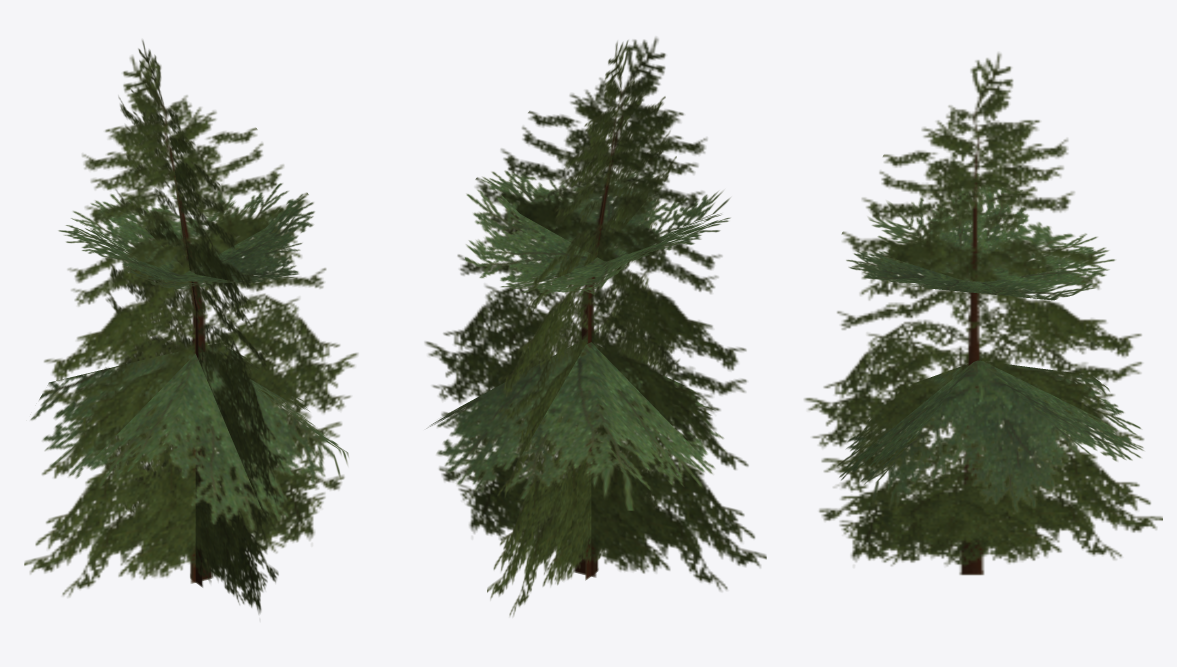
File: forest_bush_02.glb
3 views of the same model, side by side, from view 1: azimuth 30°, elevation 25°; view 2: azimuth 150°, elevation 25°; view 3: azimuth 270°, elevation 25° (orthographic). The views are drawn at different scales.
Visible parts, largest first — view 1: Background_Tree_Atlas.009_Background_Tree_Atlas_0; view 2: Background_Tree_Atlas.009_Background_Tree_Atlas_0; view 3: Background_Tree_Atlas.009_Background_Tree_Atlas_0.
Boxes of the visible parts, x1,y1,x2,y2 form: Background_Tree_Atlas.009_Background_Tree_Atlas_0: [24, 40, 358, 613]; Background_Tree_Atlas.009_Background_Tree_Atlas_0: [425, 37, 766, 616]; Background_Tree_Atlas.009_Background_Tree_Atlas_0: [804, 53, 1162, 575].
Size of the model in its own units: 0.9182 by 1.4 by 0.9182.
1 material, 1 textured.
